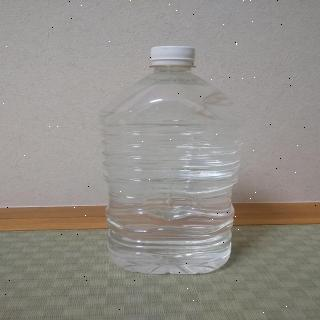Plastic-bottle: (68, 29, 258, 282)
